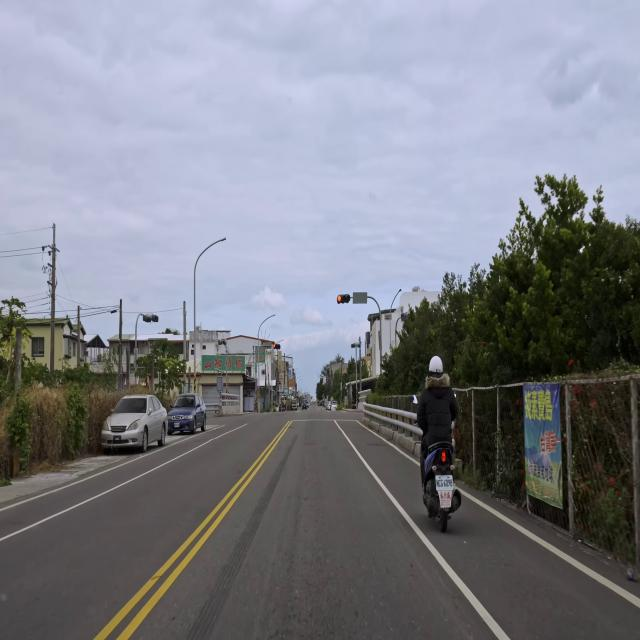red light: (337, 294, 350, 304), (272, 343, 280, 350)
